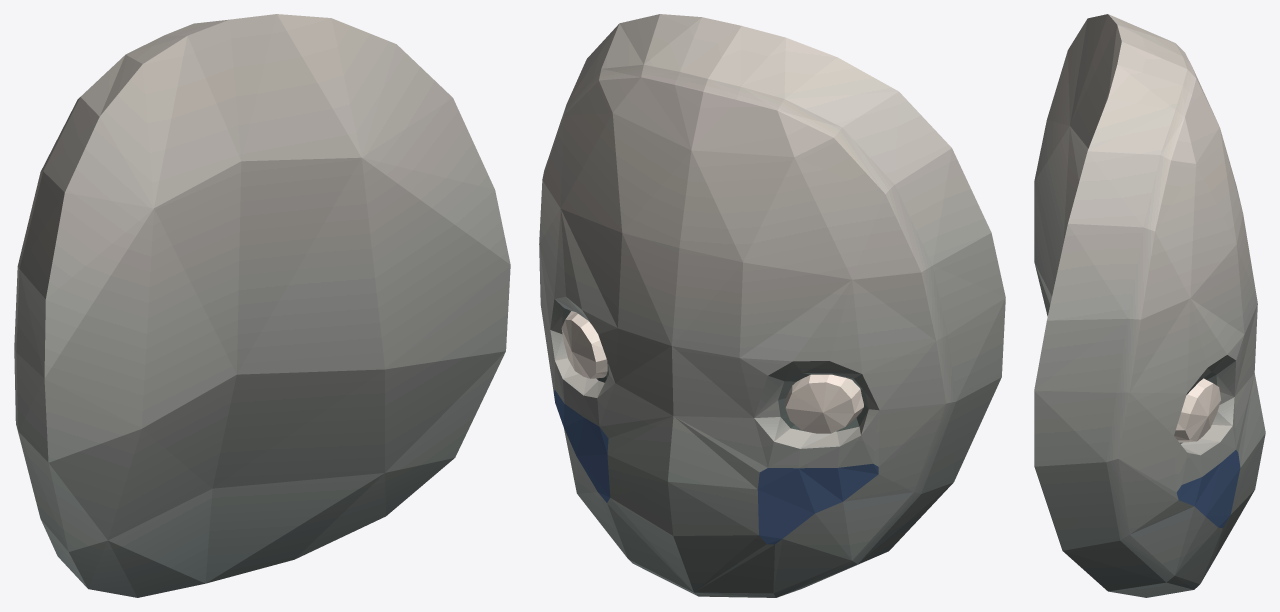
Rendered from CharSkyKid_Mask_AP03D.glb.
3 renders of one model, left to right at view 1: azimuth 30°, elevation 25°; view 2: azimuth 150°, elevation 25°; view 3: azimuth 270°, elevation 25°, orthographic. The views are drawn at different scales.
Parts seen in each view (by area): view 1: CharSkyKid_Mask_AP03D; view 2: CharSkyKid_Mask_AP03D; view 3: CharSkyKid_Mask_AP03D.
Part boxes in pixels (left/top/right/bottom): CharSkyKid_Mask_AP03D: left=14, top=14, right=510, bottom=597; CharSkyKid_Mask_AP03D: left=539, top=14, right=1005, bottom=597; CharSkyKid_Mask_AP03D: left=1034, top=14, right=1265, bottom=597.
Bounding box in the file's own units: 2.08 × 2.49 × 0.9792.
Materials: 1 (1 with a texture image).
